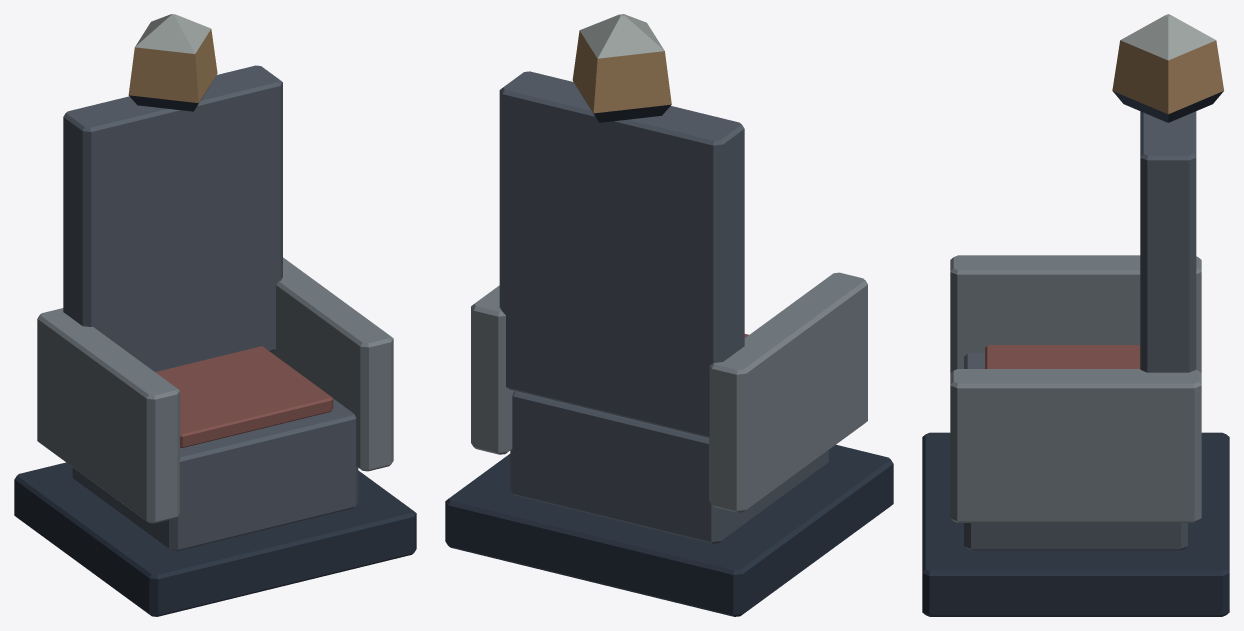
File: throne.glb
3 views of the same model, side by side, from view 1: azimuth 30°, elevation 25°; view 2: azimuth 150°, elevation 25°; view 3: azimuth 270°, elevation 25° (orthographic). The views are drawn at different scales.
Parts seen in each view (by area): view 1: throne__body; view 2: throne__body; view 3: throne__body.
Part boxes in pixels (box(x1,y1,x2,y2)): throne__body: box(14, 14, 416, 616); throne__body: box(445, 14, 893, 616); throne__body: box(922, 14, 1229, 616).
Size of the model in its own units: 1.2 by 2.1 by 1.1.
